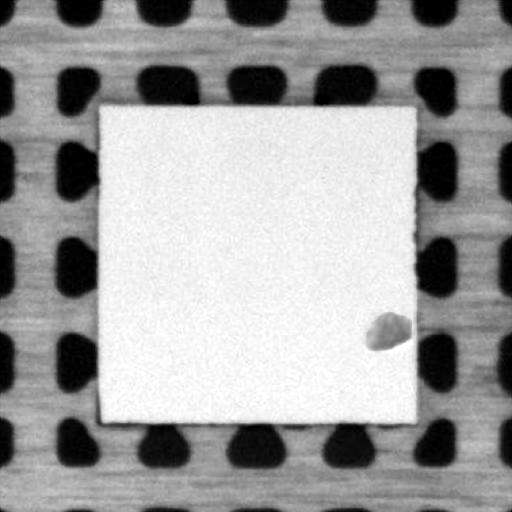DIE_INK: (364, 310, 413, 352)
